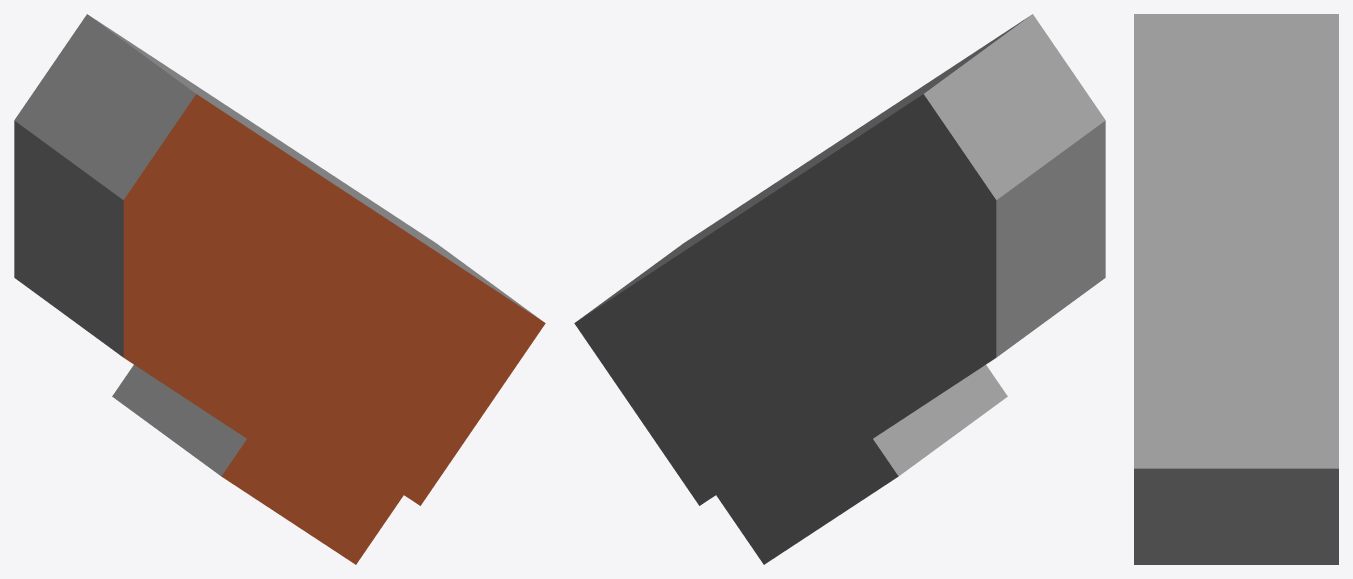
The model's file is construction_2548_assumed_A_Capela_h6m.obj.
3 views of the same model, side by side, from view 1: azimuth 30°, elevation 25°; view 2: azimuth 150°, elevation 25°; view 3: azimuth 270°, elevation 25° (orthographic). The views are drawn at different scales.
Visible parts, largest first — view 1: construction_2548_assumed_A_Capela; view 2: construction_2548_assumed_A_Capela; view 3: construction_2548_assumed_A_Capela.
Boxes of the visible parts, <box> form: construction_2548_assumed_A_Capela: <box>14,14,545,564</box>; construction_2548_assumed_A_Capela: <box>574,14,1105,564</box>; construction_2548_assumed_A_Capela: <box>1134,14,1338,564</box>.
Bounding box in the file's own units: 13.39 × 15.45 × 6.
